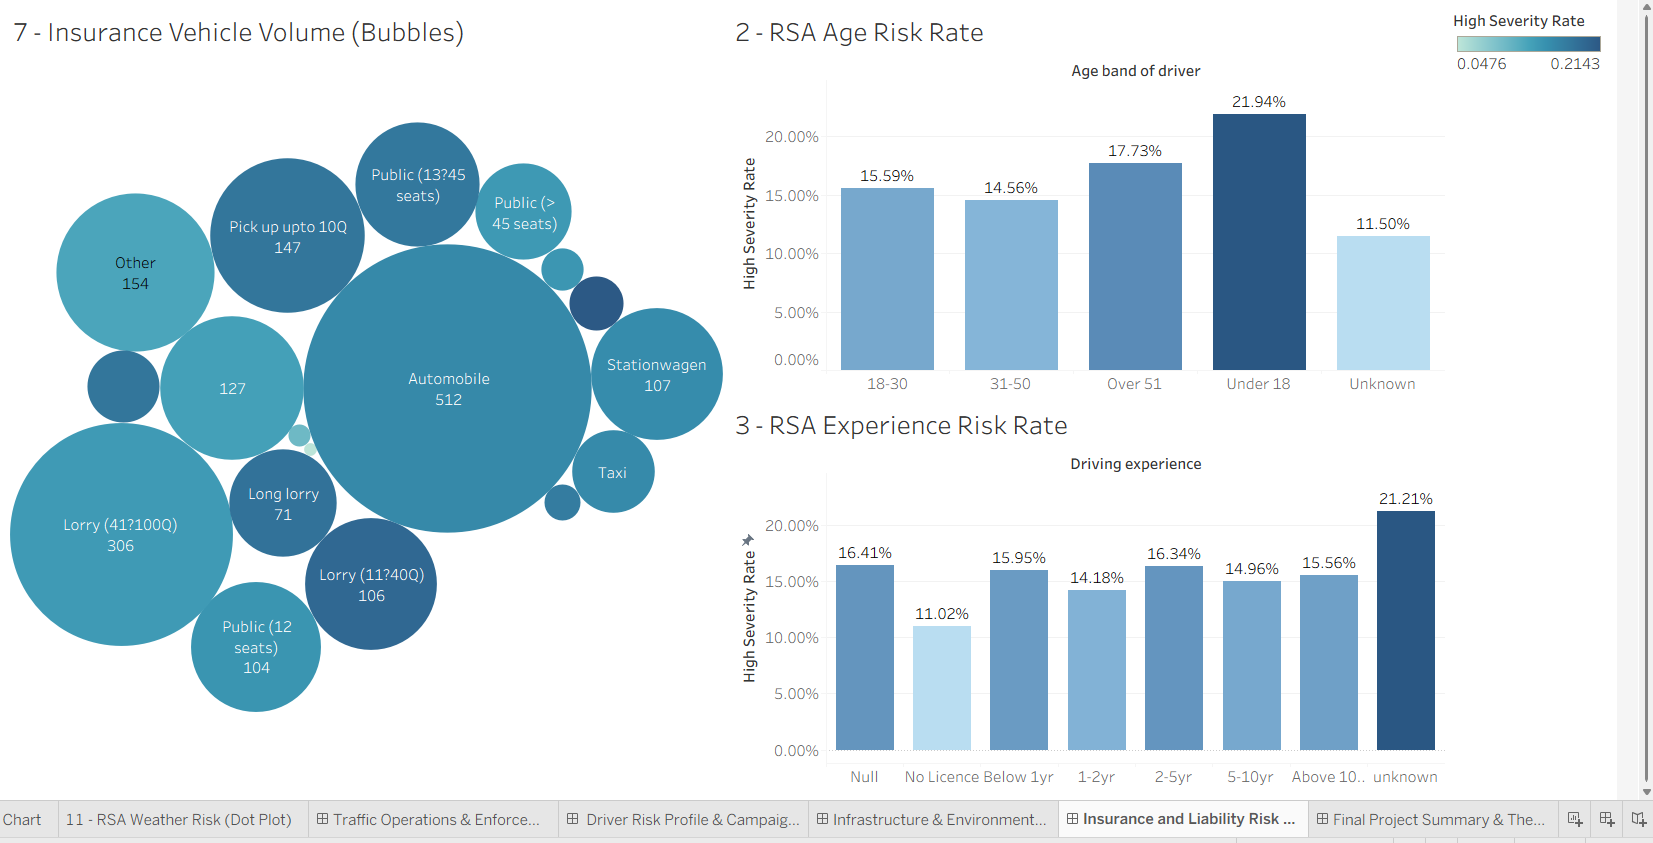

This screenshot's page, from the dashboard's own definition file:
{"tool":"tableau","page":{"name":"Insurance and Liability Risk (Actuary Focus)","canvas":[1000,1000],"units":"permille","ordinal":3},"visuals":[{"type":"worksheet","title":"7 - Insurance Vehicle Volume (Bubbles)","mark":"Circle","box":[4.9,10,445.7,980]},{"type":"worksheet","title":"2 - RSA Age Risk Rate","mark":"Bar","rows":["Calculation_1339539474521628676"],"cols":["Age_band_of_driver"],"box":[450.6,10,445.7,490]},{"type":"legend","title":"7 - Insurance Vehicle Volume (Bubbles)","param":"[federated.0dhkpaf1qhw5kp15i6k4k1ovqkq8].[usr:Calculation_1339539474521628676:qk","box":[896.3,10,98.8,91]},{"type":"worksheet","title":"3 - RSA Experience Risk Rate","mark":"Automatic","rows":["Calculation_1339539474521628676"],"cols":["Driving_experience"],"box":[450.6,500,445.7,490]}]}

Visuals, with their boxes on the dashboard's canvas, which has no fixed pixel size, in thousandths of its width and height (x1, y1, x2, y2). These are canvas units, not pixel positions in the 1653x843 screenshot, which may show the page scaled, cropped or inside an application window:
"7 - Insurance Vehicle Volume (Bubbles)" worksheet (Circle marks): [x1=5, y1=10, x2=451, y2=990]
"2 - RSA Age Risk Rate" worksheet (Bar marks): [x1=451, y1=10, x2=896, y2=500]
"7 - Insurance Vehicle Volume (Bubbles)" legend: [x1=896, y1=10, x2=995, y2=101]
"3 - RSA Experience Risk Rate" worksheet: [x1=451, y1=500, x2=896, y2=990]
